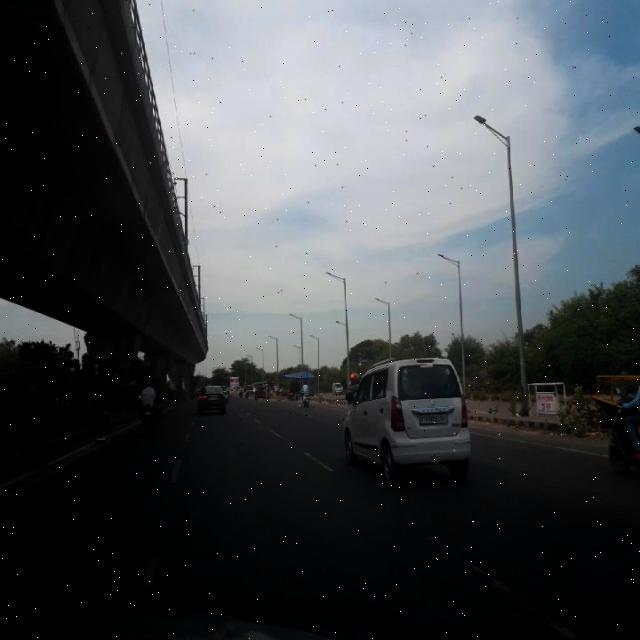D44: (421, 523, 572, 630), (137, 543, 163, 600)
